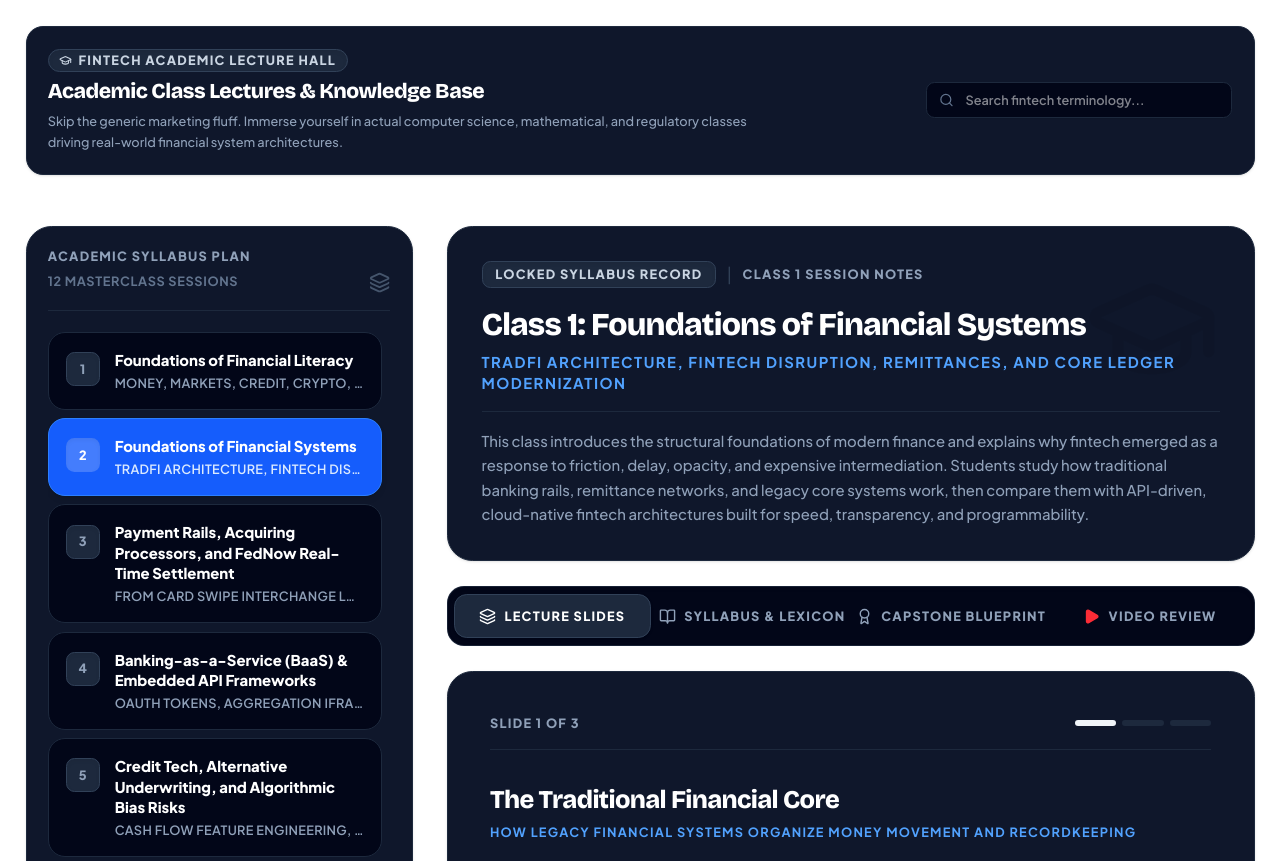
Test: KnowledgeBase › switches to syllabus tab
Click the button "Syllabus & Lexicon" at [752, 616], box x1=655 y1=594 x2=849 y2=638
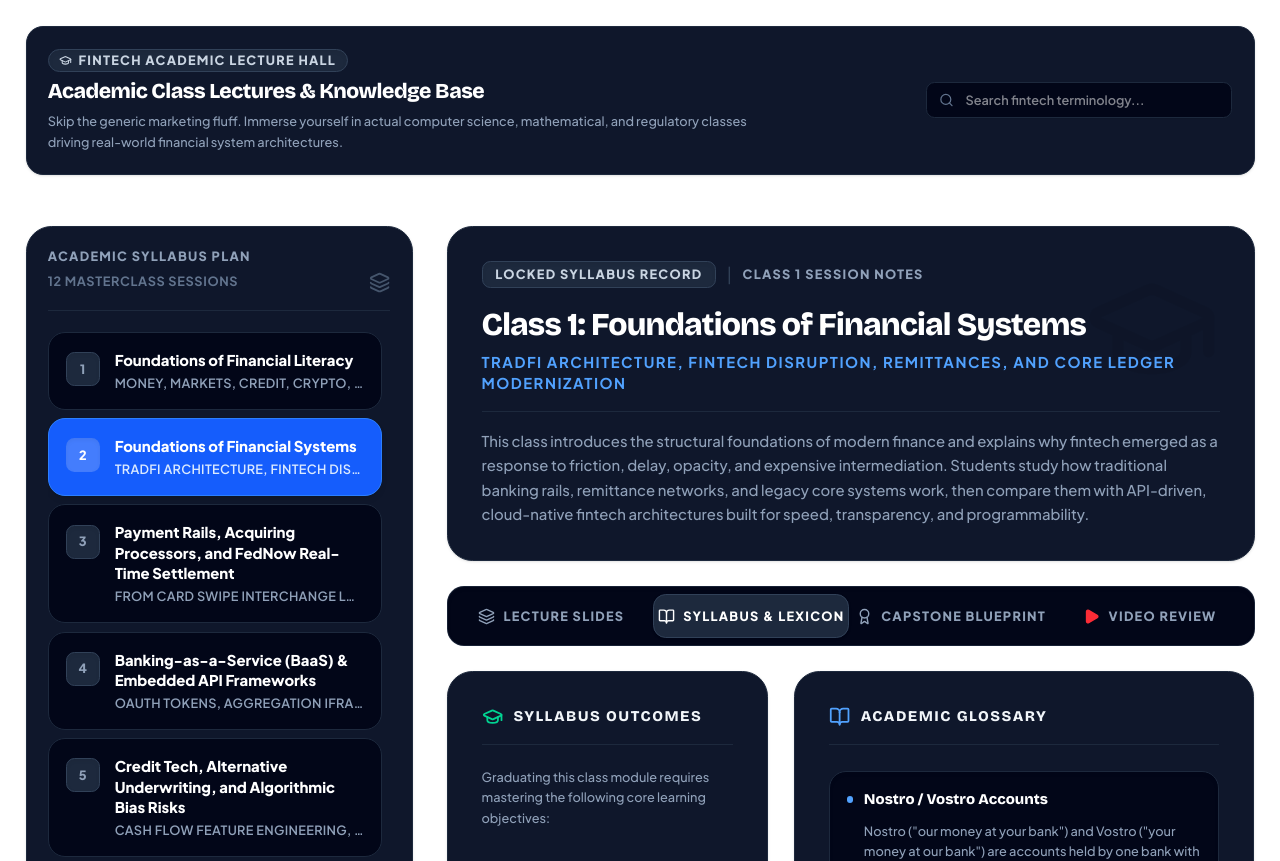
Now the heading "Syllabus Outcomes" is shown, box x1=513 y1=706 x2=702 y2=727
